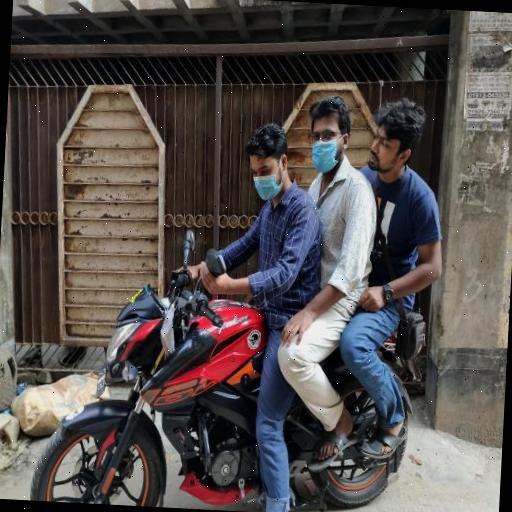no helmet: (216, 116, 302, 238)
triple riding: (34, 65, 467, 512)
